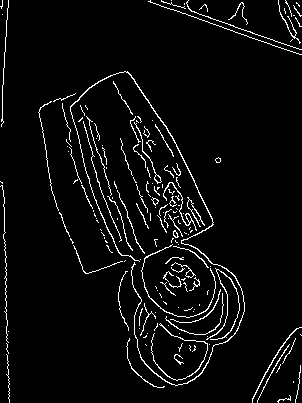cucumber: (61, 60, 219, 253), (133, 243, 220, 321)
